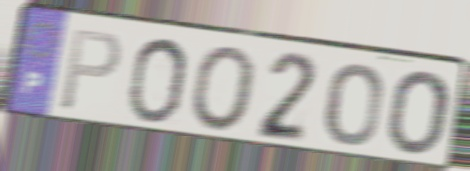2: (254, 50, 319, 144)
O: (187, 43, 258, 134), (384, 69, 452, 158), (124, 36, 191, 126), (323, 61, 385, 149)
P: (56, 27, 124, 114)
